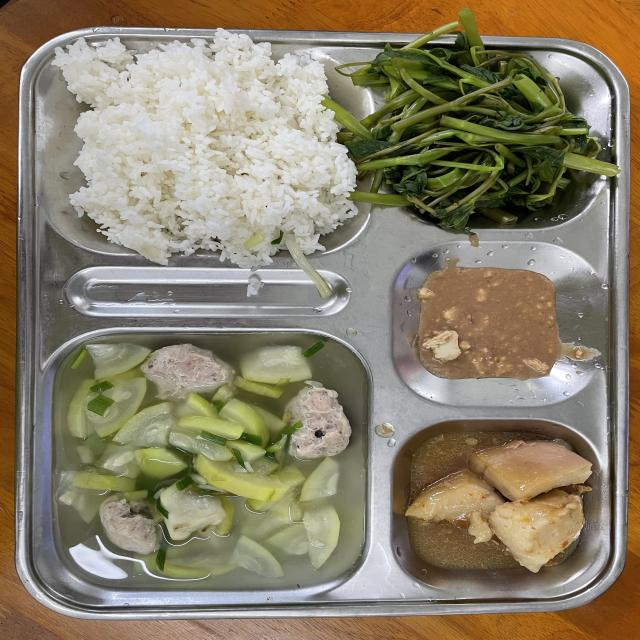canh bau: (49, 332, 369, 593)
com: (52, 29, 357, 268)
kho trung: (405, 440, 592, 572)
rau: (335, 9, 619, 231)
